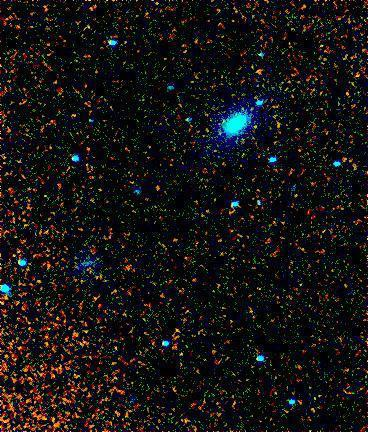star: (143, 173, 173, 203)
